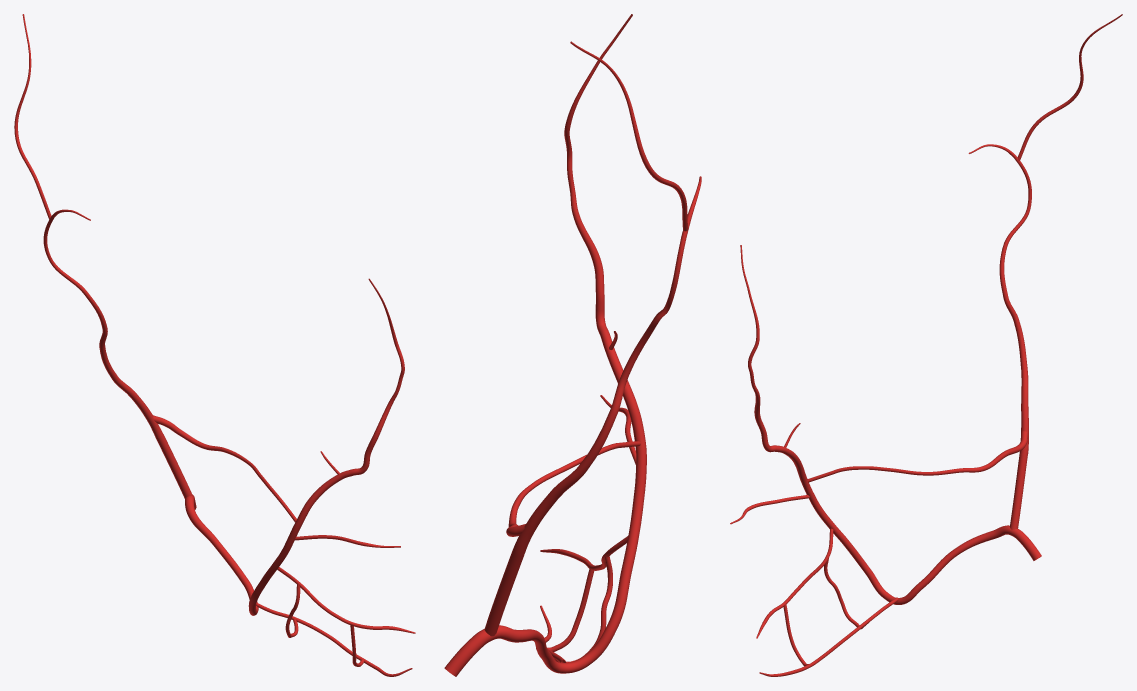
Rendered from circulatorio-common-facial-vein-r.glb.
The picture shows the model from 3 angles, left to right: view 1: azimuth 30°, elevation 25°; view 2: azimuth 150°, elevation 25°; view 3: azimuth 270°, elevation 25°; orthographic projection. The views are drawn at different scales.
Parts seen in each view (by area): view 1: Superficial temporal veins.r, Facial vein.r, Angular vein.r, Inferior labial veins.r, Maxillary veins.r, Submental vein.r, Anterior division of retromandibular vein.r; view 2: Facial vein.r, Superficial temporal veins.r, Angular vein.r, Inferior labial veins.r, Anterior division of retromandibular vein.r, Maxillary veins.r, Common facial vein.r, Retromandibular vein.r; view 3: Facial vein.r, Superficial temporal veins.r, Angular vein.r, Maxillary veins.r, Inferior labial veins.r, Anterior division of retromandibular vein.r, Submental vein.r.
Part boxes in pixels (bbox=[...]): Superficial temporal veins.r: bbox=[14, 14, 136, 398]; Facial vein.r: bbox=[185, 496, 315, 615]; Angular vein.r: bbox=[311, 278, 404, 500]; Inferior labial veins.r: bbox=[277, 567, 415, 666]; Maxillary veins.r: bbox=[153, 415, 296, 522]; Submental vein.r: bbox=[256, 603, 412, 676]; Anterior division of retromandibular vein.r: bbox=[156, 434, 192, 498]; Facial vein.r: bbox=[493, 395, 646, 673]; Superficial temporal veins.r: bbox=[550, 41, 701, 499]; Angular vein.r: bbox=[564, 14, 633, 399]; Inferior labial veins.r: bbox=[540, 536, 628, 662]; Anterior division of retromandibular vein.r: bbox=[484, 551, 524, 636]; Maxillary veins.r: bbox=[506, 441, 640, 536]; Common facial vein.r: bbox=[444, 629, 492, 676]; Retromandibular vein.r: bbox=[512, 493, 557, 556]; Facial vein.r: bbox=[794, 461, 1011, 604]; Superficial temporal veins.r: bbox=[968, 14, 1122, 397]; Angular vein.r: bbox=[740, 245, 800, 465]; Maxillary veins.r: bbox=[807, 431, 1027, 482]; Inferior labial veins.r: bbox=[756, 528, 868, 666]; Anterior division of retromandibular vein.r: bbox=[1010, 454, 1027, 529]; Submental vein.r: bbox=[759, 597, 898, 676].
Bounding box in the file's own units: 0.0759 × 0.1754 × 0.1093.
